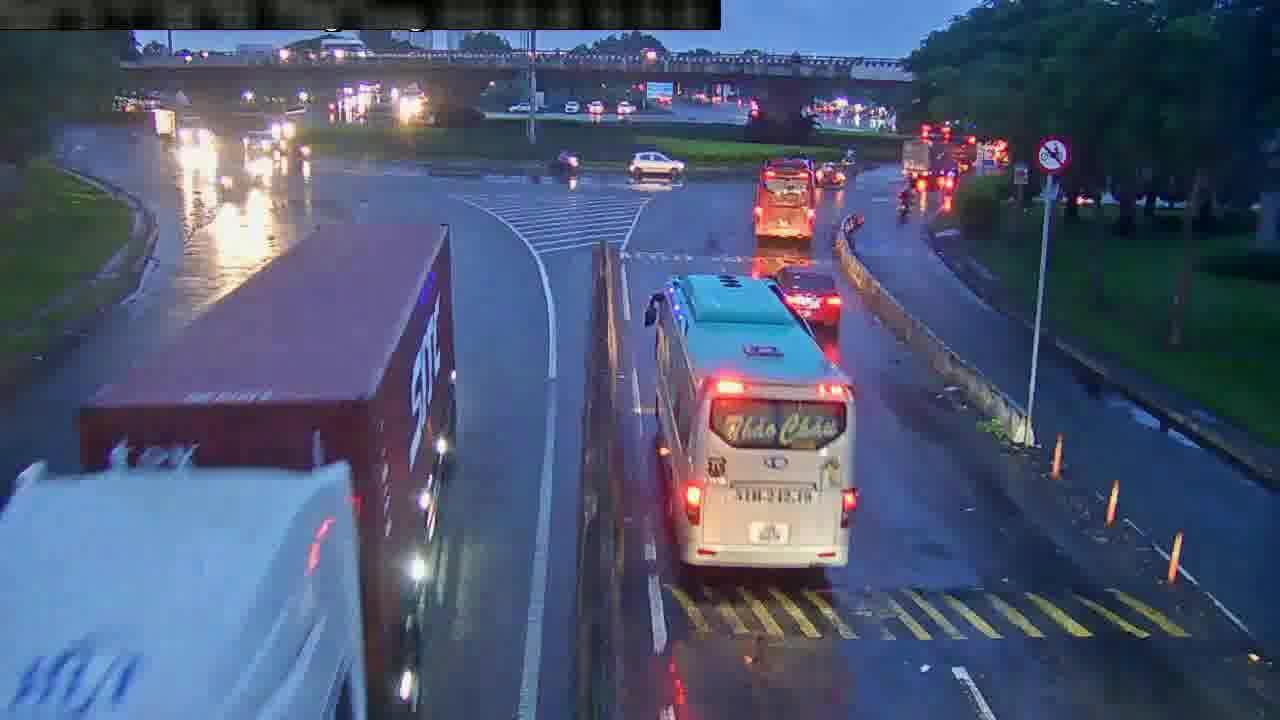14: (647, 270, 854, 578), (750, 157, 818, 238)
8: (0, 218, 459, 720)
container: (770, 266, 843, 336), (629, 148, 684, 179)
